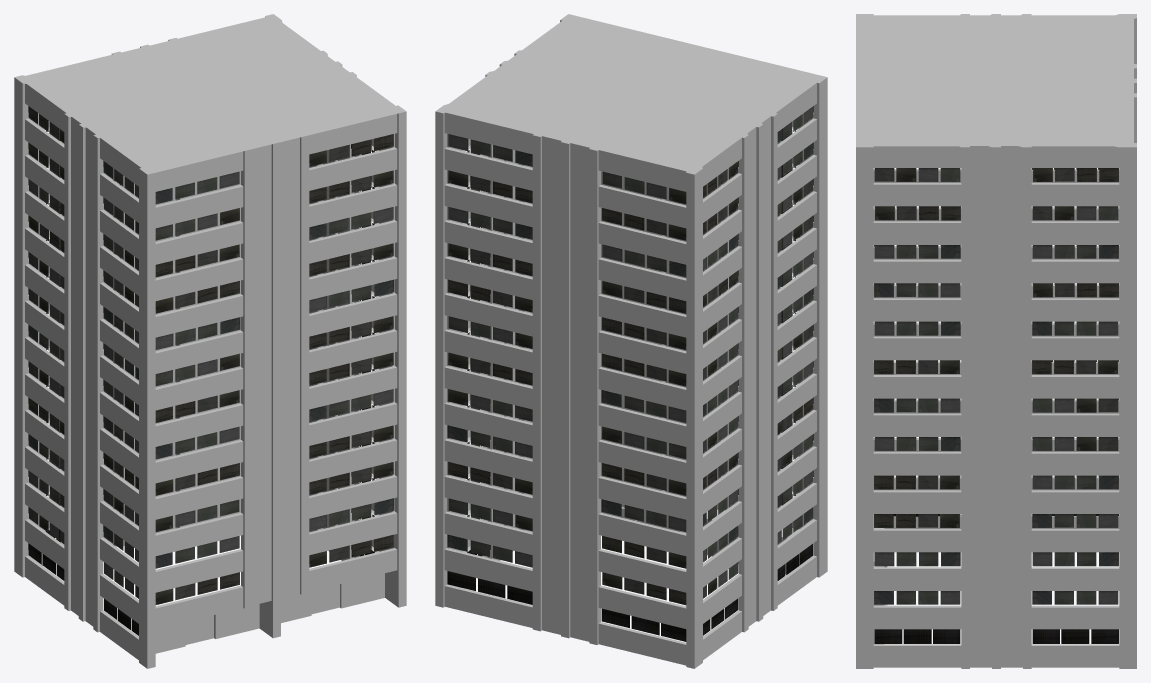
3 views of the same model, side by side, from view 1: azimuth 30°, elevation 25°; view 2: azimuth 150°, elevation 25°; view 3: azimuth 270°, elevation 25° (orthographic). The views are drawn at different scales.
Parts seen in each view (by area): view 1: BB-079; view 2: BB-079; view 3: BB-079.
Part boxes in pixels (x1,y1,x2,y2): BB-079: (14, 14, 406, 668); BB-079: (435, 14, 827, 668); BB-079: (856, 14, 1136, 668).
Size of what is drawn, in the model's own units: 22.34 by 40.7 by 19.87.
